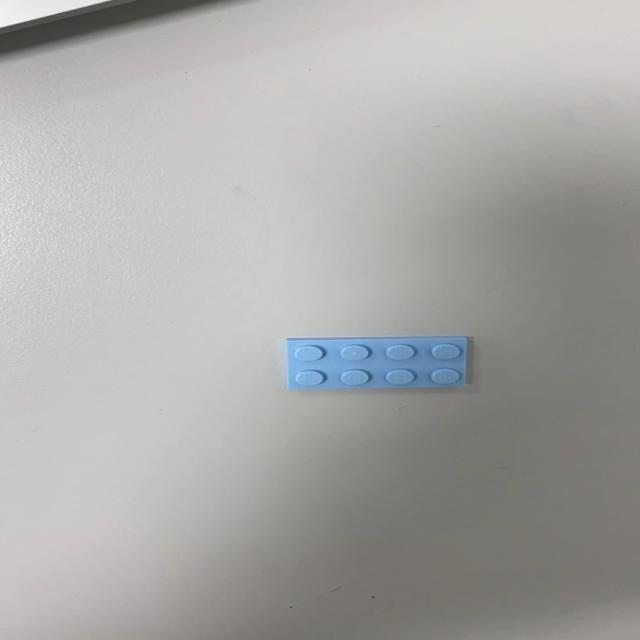C4x2x0: (283, 335, 469, 390)
